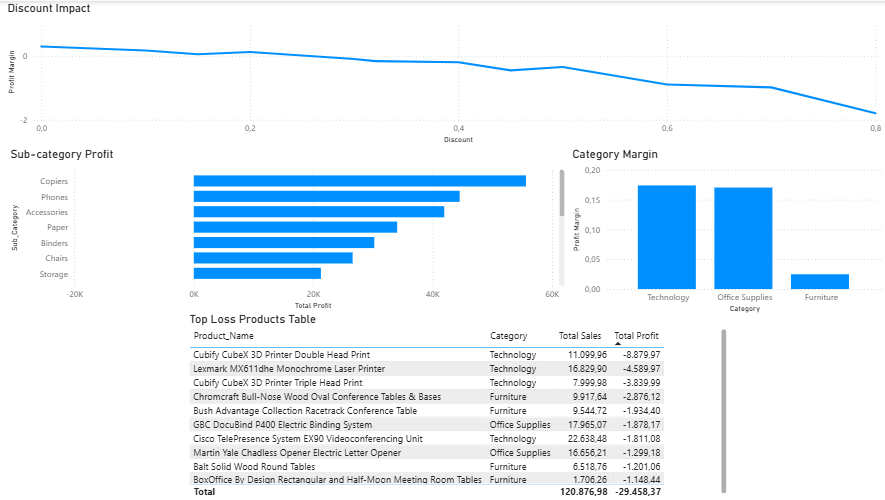

The page's visual inventory and layout, read from the dashboard file:
{"tool":"powerbi","page":{"name":"Profitability Analysis","canvas":[1280,720],"ordinal":2},"visuals":[{"type":"lineChart","title":"Discount Impact ","fields":{"Category":["superstore_cleaned.Discount"],"Y":["superstore_cleaned.Profit Margin"]},"box":[10.1,0,1269.9,210],"z":0},{"type":"clusteredBarChart","title":"Sub-category Profit","fields":{"Category":["superstore_cleaned.Sub_Category"],"Y":["superstore_cleaned.Total Profit"]},"box":[15.1,210,808,238.5],"z":1000},{"type":"clusteredColumnChart","title":"Category Margin ","fields":{"Category":["superstore_cleaned.Category"],"Y":["superstore_cleaned.Profit Margin"]},"box":[823.1,210,456.9,243.6],"z":2000},{"type":"tableEx","title":"Top Loss Products Table ","fields":{"Values":["superstore_cleaned.Product_Name","superstore_cleaned.Category","superstore_cleaned.Total Sales","superstore_cleaned.Total Profit"]},"box":[272,448,784,272],"z":3000}]}

Visuals, with their boxes in screenshot pixels (x1, y1, x2, y2), scaled from the page's 1280x720 canvas onto the 885x500 screenshot:
"Discount Impact " lineChart: box=[7, 0, 884, 146]
"Sub-category Profit" clusteredBarChart: box=[10, 146, 569, 311]
"Category Margin " clusteredColumnChart: box=[569, 146, 884, 315]
"Top Loss Products Table " tableEx: box=[188, 311, 730, 499]
